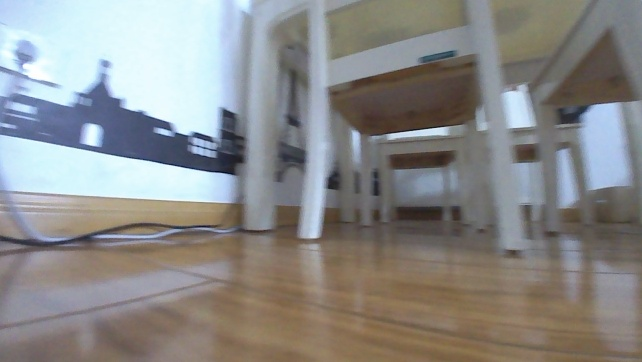dining_table1: (239, 0, 641, 256)
wire: (0, 215, 244, 250)
